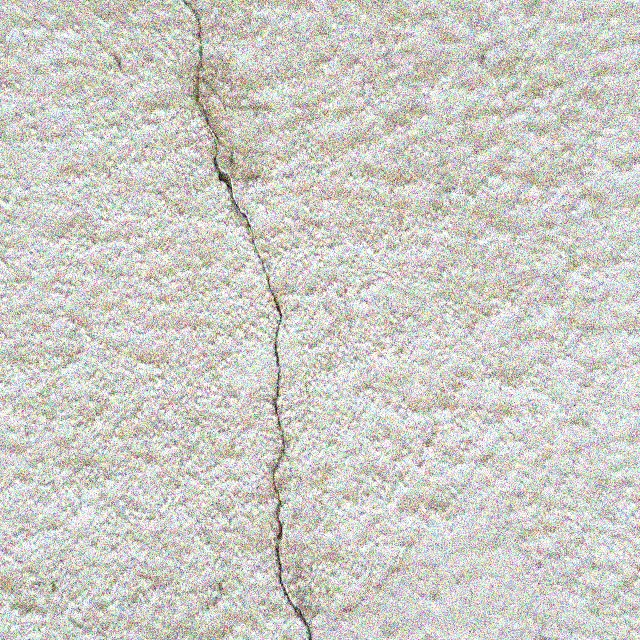SurfaceCrack: (150, 1, 355, 639)
